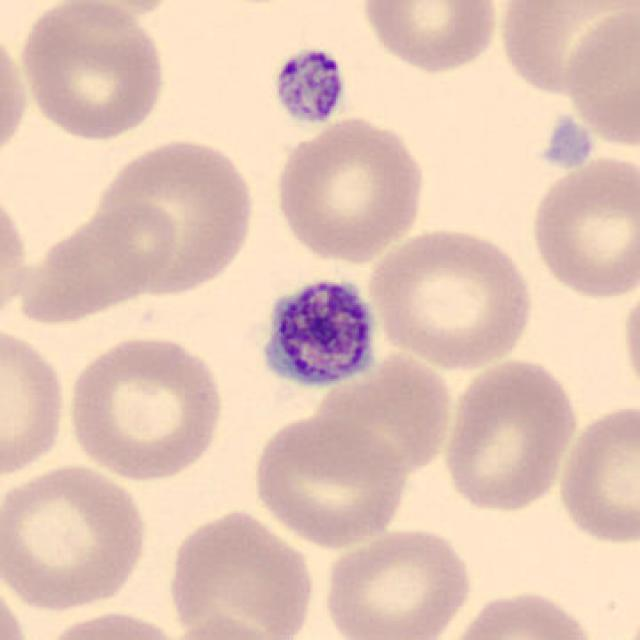Platelets: (258, 271, 389, 394), (268, 44, 348, 127), (538, 115, 594, 171)
RBC: (89, 132, 259, 300), (364, 222, 538, 372), (62, 330, 228, 483), (271, 113, 428, 266), (0, 460, 151, 614), (9, 194, 179, 328), (439, 354, 580, 515), (14, 0, 171, 143), (249, 411, 411, 548), (164, 506, 320, 638), (311, 347, 457, 476), (319, 523, 476, 640), (526, 150, 638, 301), (496, 2, 635, 98), (553, 398, 638, 546), (560, 3, 640, 154), (0, 319, 69, 483), (357, 0, 503, 76), (441, 585, 601, 640), (33, 606, 186, 640), (0, 184, 34, 332), (0, 21, 32, 166), (34, 0, 185, 28), (158, 612, 295, 640), (618, 276, 640, 405), (0, 571, 32, 640)
